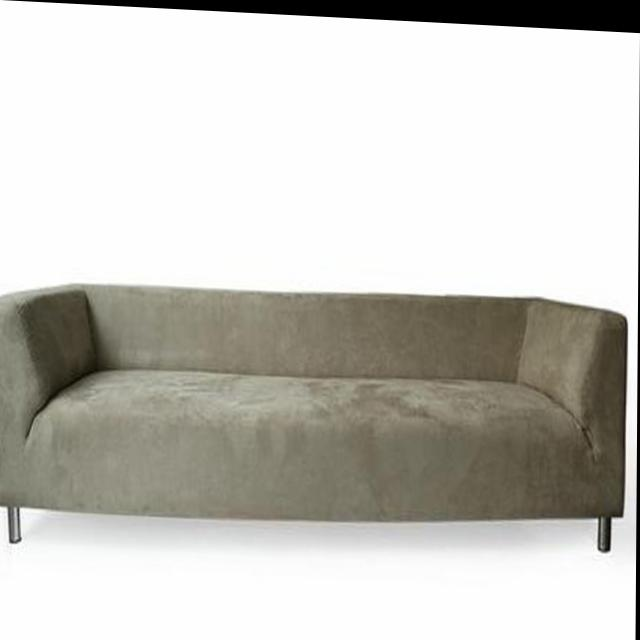Sofa: (0, 270, 628, 568)
